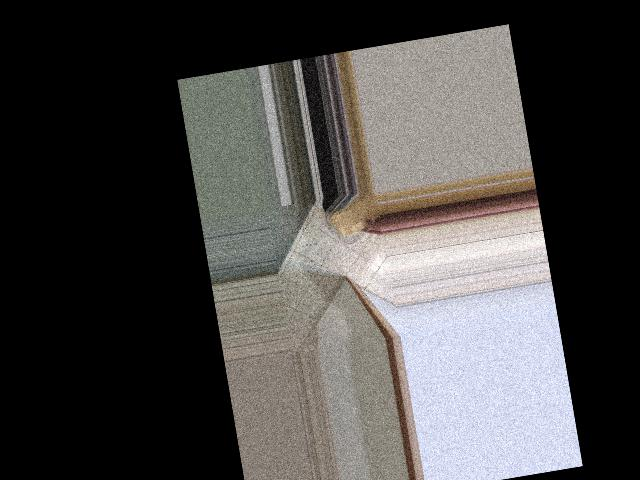cheese: (323, 189, 385, 246)
